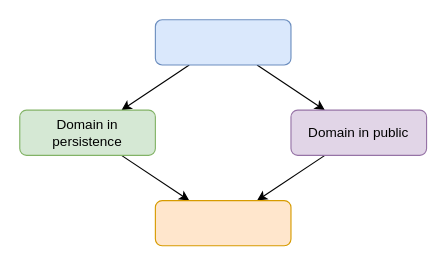
Image size: 446x266. Some labels were removed from this diagram. Each missing label, with the centre of its shape:
"Separate models" belongs at point (222, 42).
"Single model" belongs at point (222, 222).
